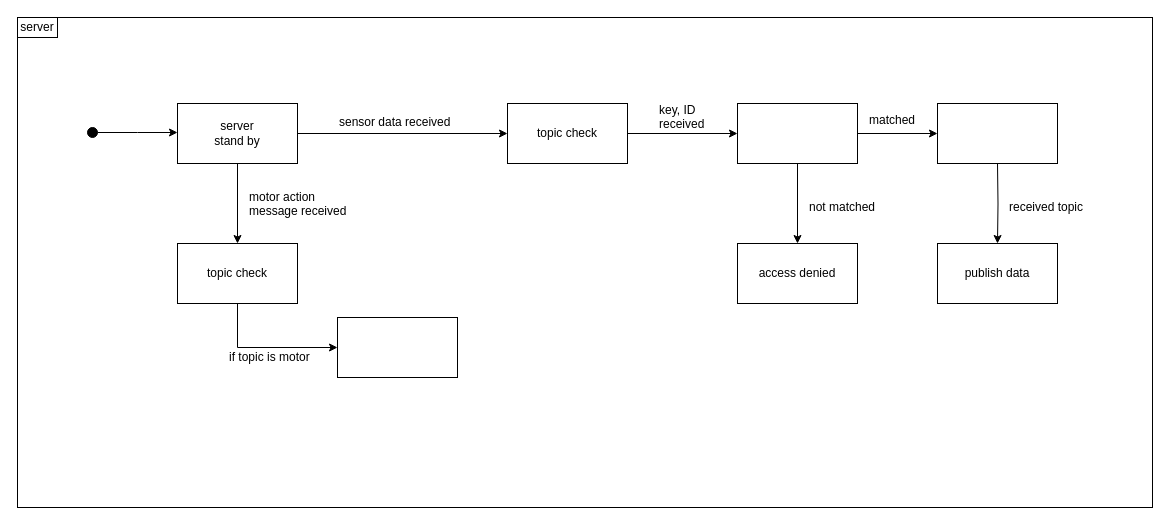
Image size: 1170x525. Some labels were removed from this diagram. The box of each missing label's shape, as (x1, y1, x2, y2) in pixels:
data transmission to database: (936, 102, 1058, 164)
key match check: (736, 102, 858, 164)
publish time,message: (336, 316, 458, 378)
